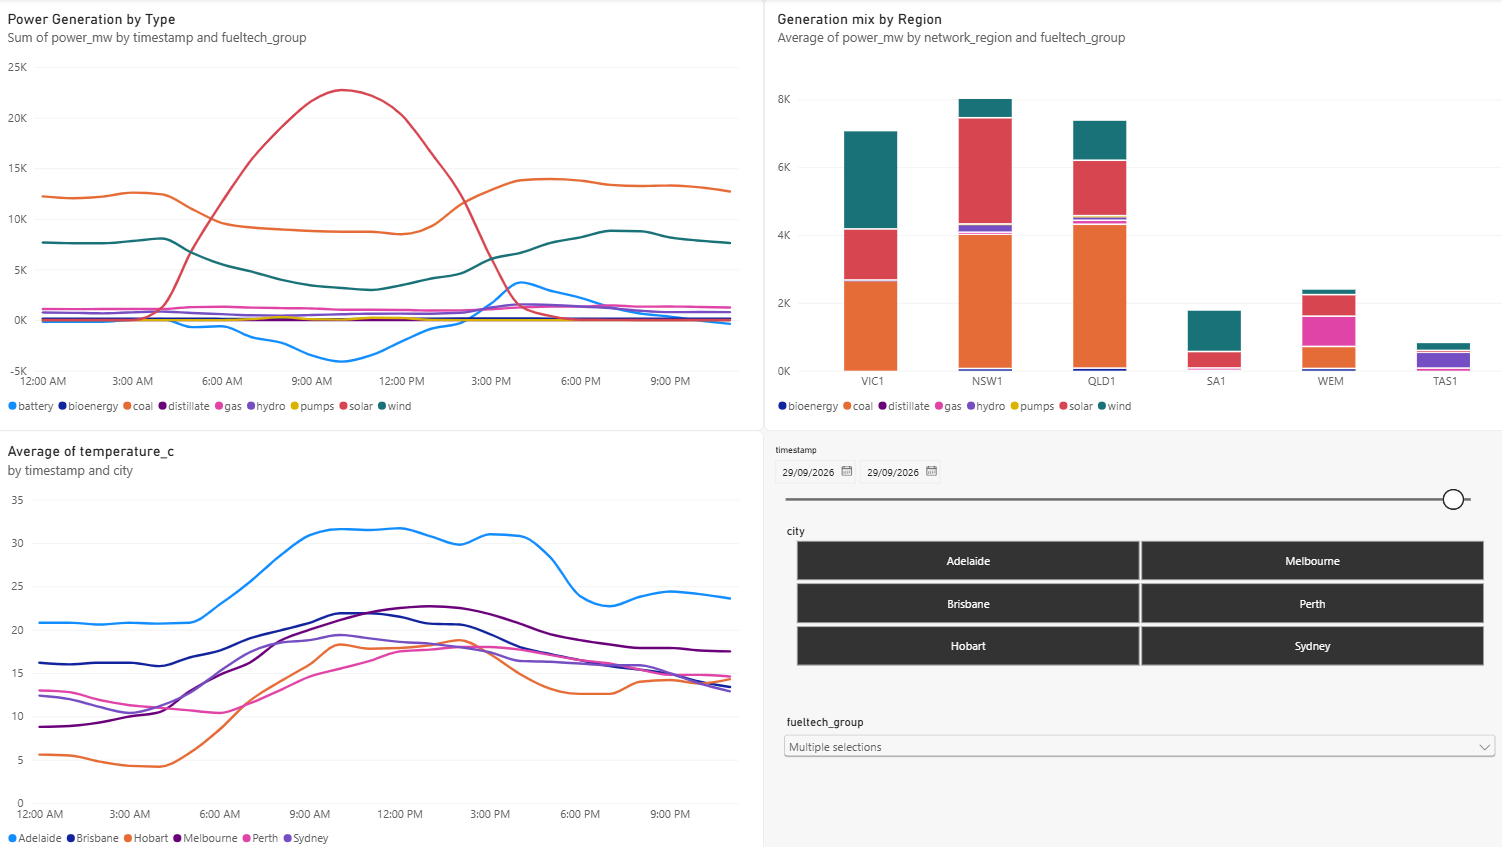

The page's visual inventory and layout, read from the dashboard file:
{"tool":"powerbi","page":{"name":"Page 1","canvas":[1920,1080],"ordinal":0},"visuals":[{"type":"lineChart","title":"Power Generation by Type","fields":{"Category":["staging fact_electricity_weather.timestamp"],"Series":["staging fact_electricity_weather.fueltech_group"],"Y":["Sum(staging fact_electricity_weather.power_mw)"]},"box":[0,0,960,540],"z":0},{"type":"slicer","fields":{"Values":["staging fact_electricity_weather.timestamp"]},"box":[966.7,556.7,893.3,100],"z":1000},{"type":"columnChart","title":"Generation mix by Region","fields":{"Category":["staging fact_electricity_weather.network_region"],"Series":["staging fact_electricity_weather.fueltech_group"],"Y":["Avg(staging fact_electricity_weather.power_mw)"]},"box":[960,0,960,540],"z":2000},{"type":"lineChart","fields":{"Category":["staging fact_electricity_weather.timestamp"],"Series":["staging fact_electricity_weather.city"],"Y":["Avg(staging fact_electricity_weather.temperature_c)"]},"box":[0,540,960,540],"z":3000},{"type":"slicer","fields":{"Values":["staging fact_electricity_weather.city"]},"box":[980,656.7,896.7,178.3],"z":3001},{"type":"slicer","fields":{"Values":["staging fact_electricity_weather.fueltech_group"]},"box":[980,895,896.7,80],"z":3002}]}

Visuals, with their boxes in screenshot pixels (x1, y1, x2, y2), scaled from the page's 1920x1080 canvas onto the 1502x847 screenshot:
"Power Generation by Type" lineChart: detection(0, 0, 751, 424)
slicer - staging fact_electricity_weather.timestamp: detection(756, 437, 1455, 515)
"Generation mix by Region" columnChart: detection(751, 0, 1501, 424)
lineChart - staging fact_electricity_weather.timestamp x staging fact_electricity_weather.city: detection(0, 424, 751, 846)
slicer - staging fact_electricity_weather.city: detection(767, 515, 1468, 655)
slicer - staging fact_electricity_weather.fueltech_group: detection(767, 702, 1468, 765)
